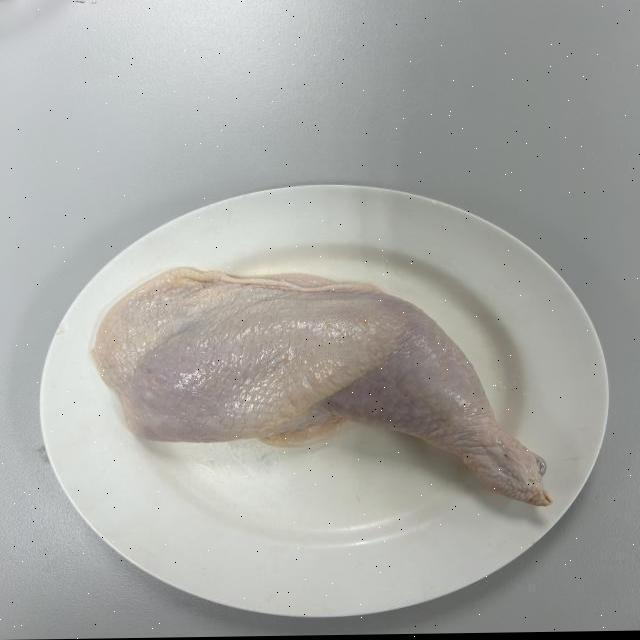quater: (98, 263, 562, 522)
